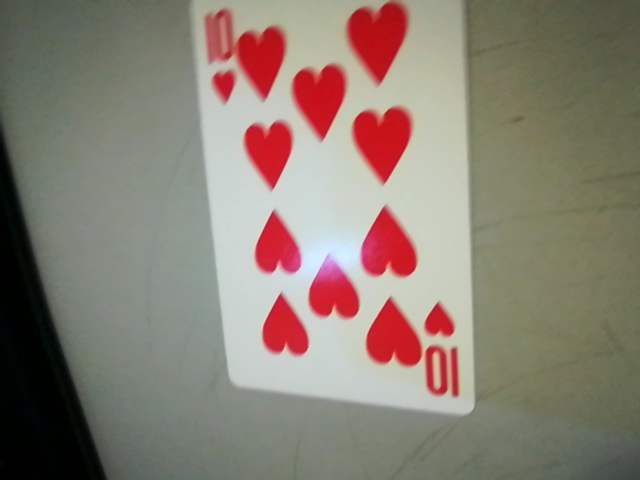hx 10: (417, 300, 475, 407)
